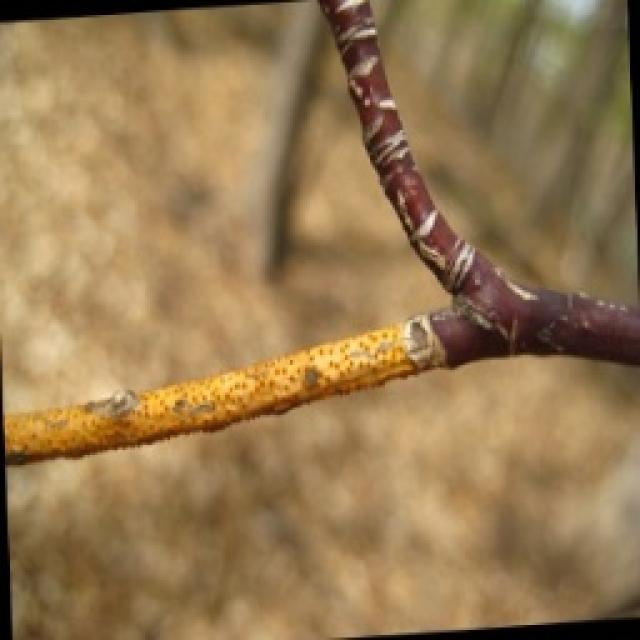Golden_canker: (2, 310, 442, 468)
